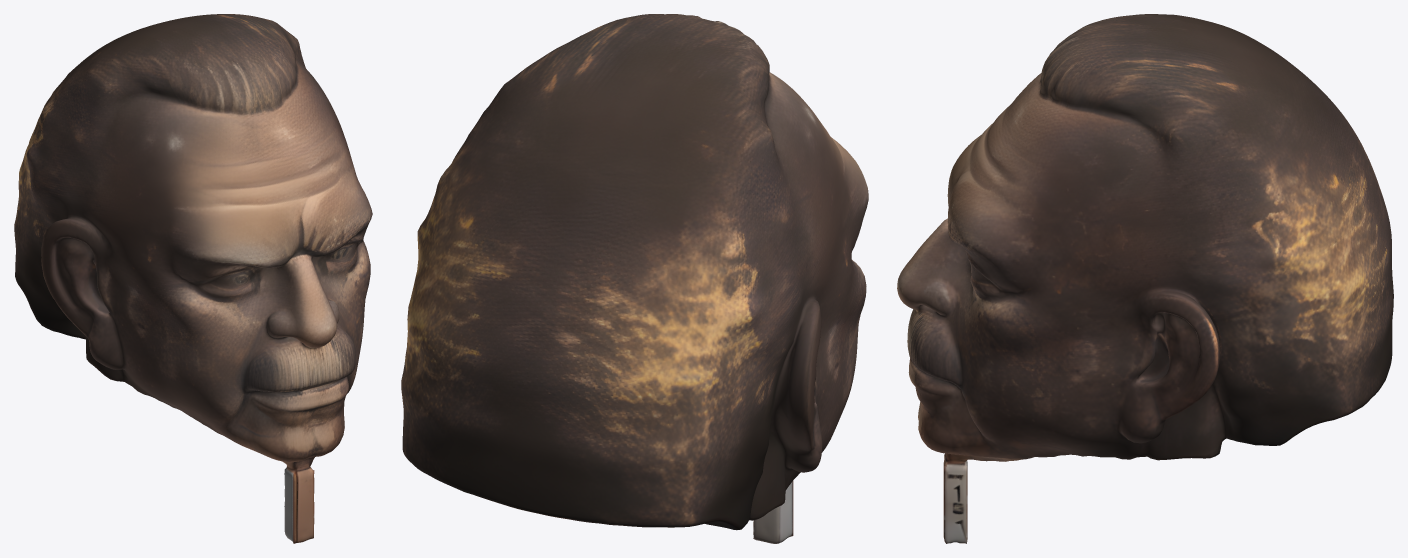
File: Guerrero.glb
The picture shows the model from 3 angles, left to right: view 1: azimuth 30°, elevation 25°; view 2: azimuth 150°, elevation 25°; view 3: azimuth 270°, elevation 25°; orthographic projection. The views are drawn at different scales.
Parts seen in each view (by area): view 1: model; view 2: model; view 3: model.
Part boxes in pixels (<box>): model: <box>14,14,372,543</box>; model: <box>401,14,868,543</box>; model: <box>897,14,1393,543</box>.
Bounding box in the file's own units: 1.29 × 1.91 × 1.71.
1 material, 1 textured.
